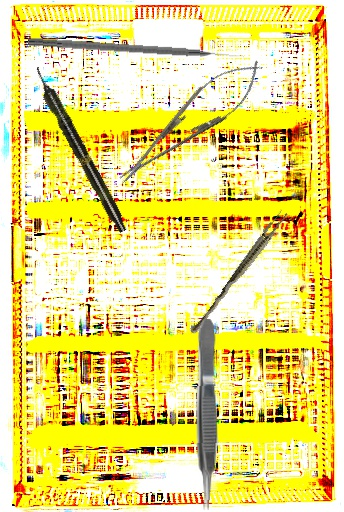Handpiece: (29, 64, 131, 235)
Hook Surgical: (27, 36, 245, 63)
Needle Holder: (106, 47, 274, 197)
Tissue Forceps: (189, 207, 289, 338), (194, 318, 221, 511)
